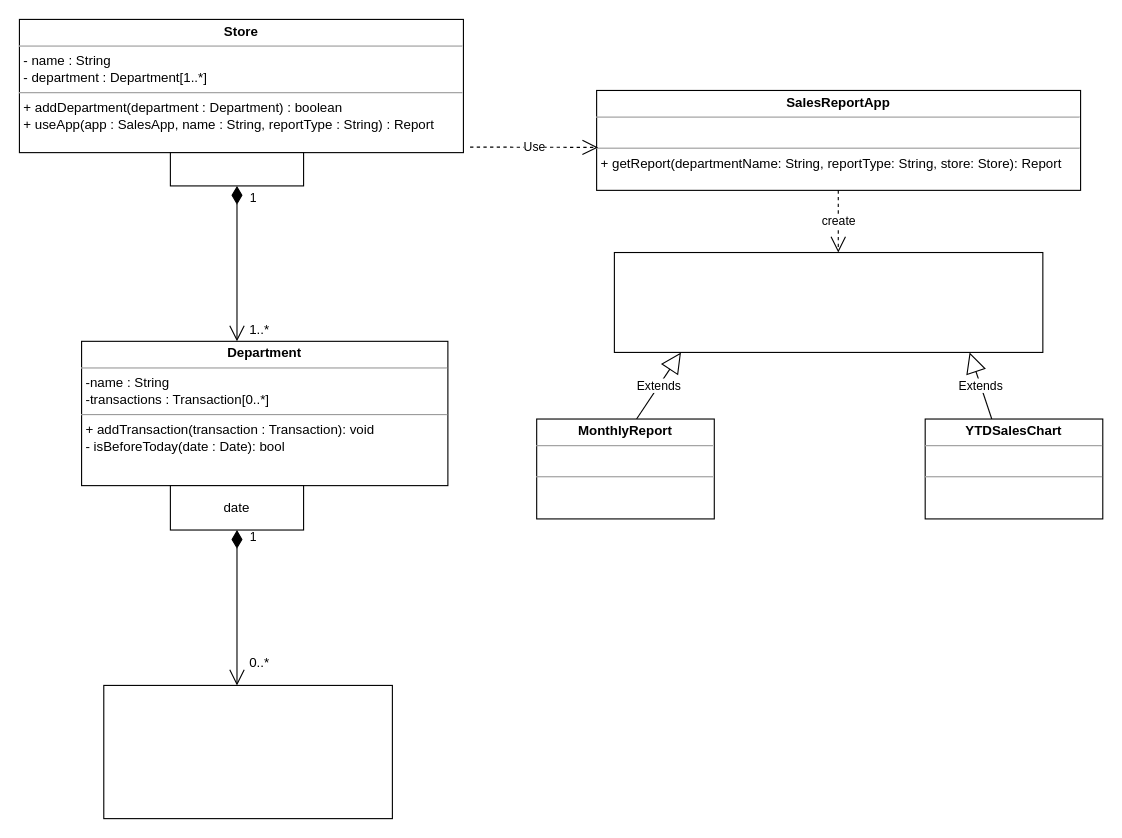
Image size: 1122x838. Some labels were removed from this diagram. The centre of each missing label's shape, as x and y in pixels:
"name" belongs at (x=236, y=169).
"Report + getData(store: Store, departmentName: String): Type" belongs at (x=828, y=301).
"Transaction -date : Date -sales : Int" belongs at (x=247, y=751).
